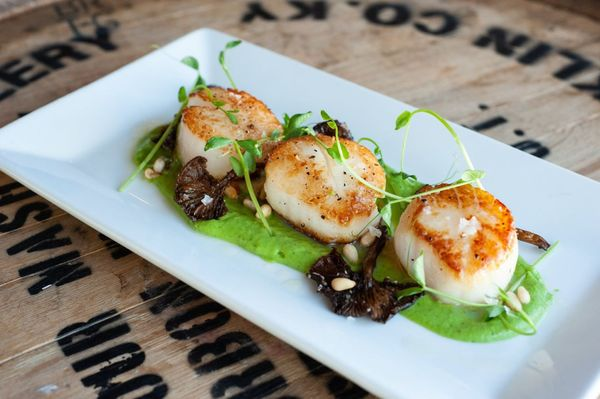curry: (3, 3, 599, 393)
